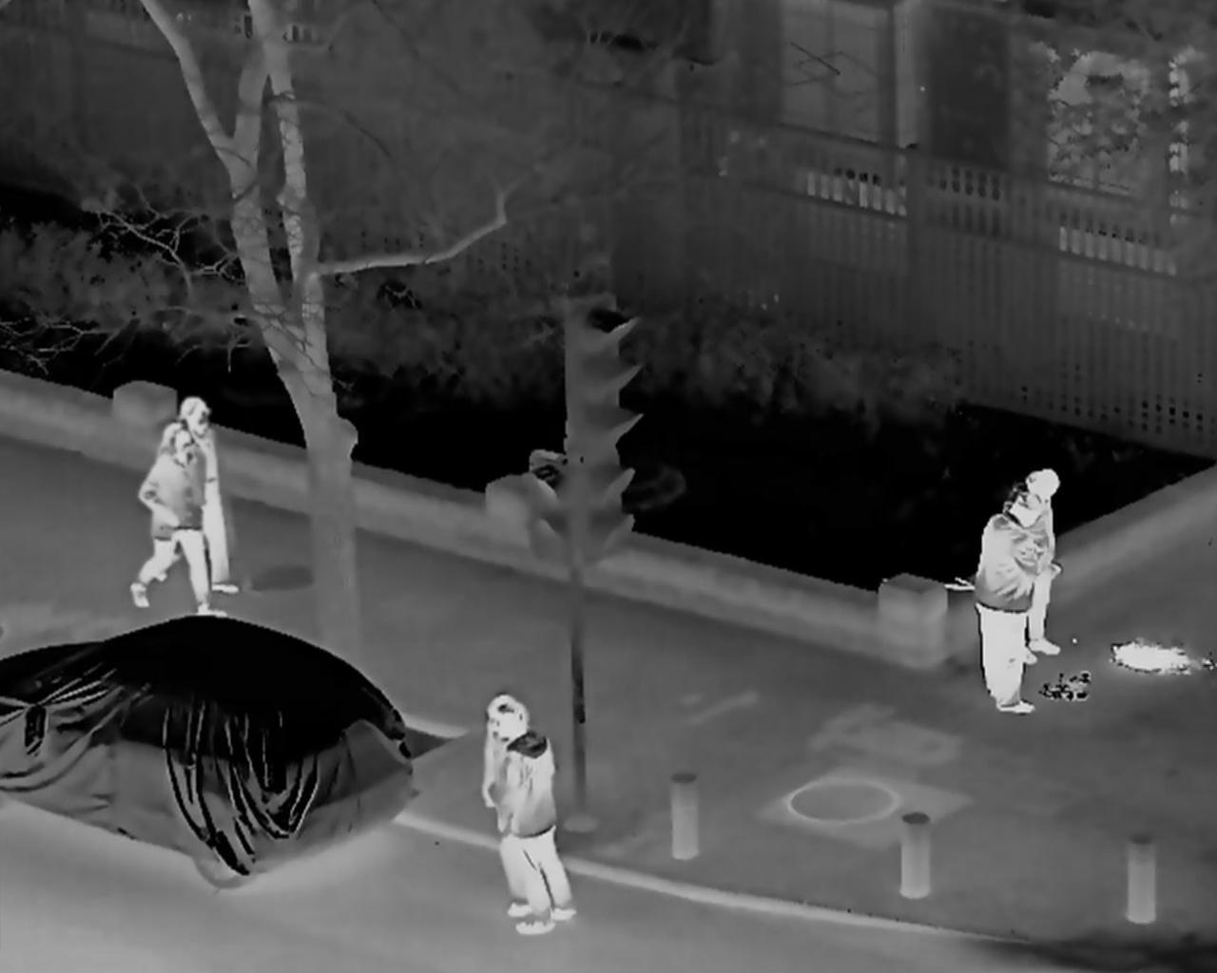person: (494, 704, 584, 938), (133, 429, 227, 628), (480, 694, 559, 918), (154, 396, 239, 594), (974, 494, 1041, 716), (1000, 468, 1061, 671)
